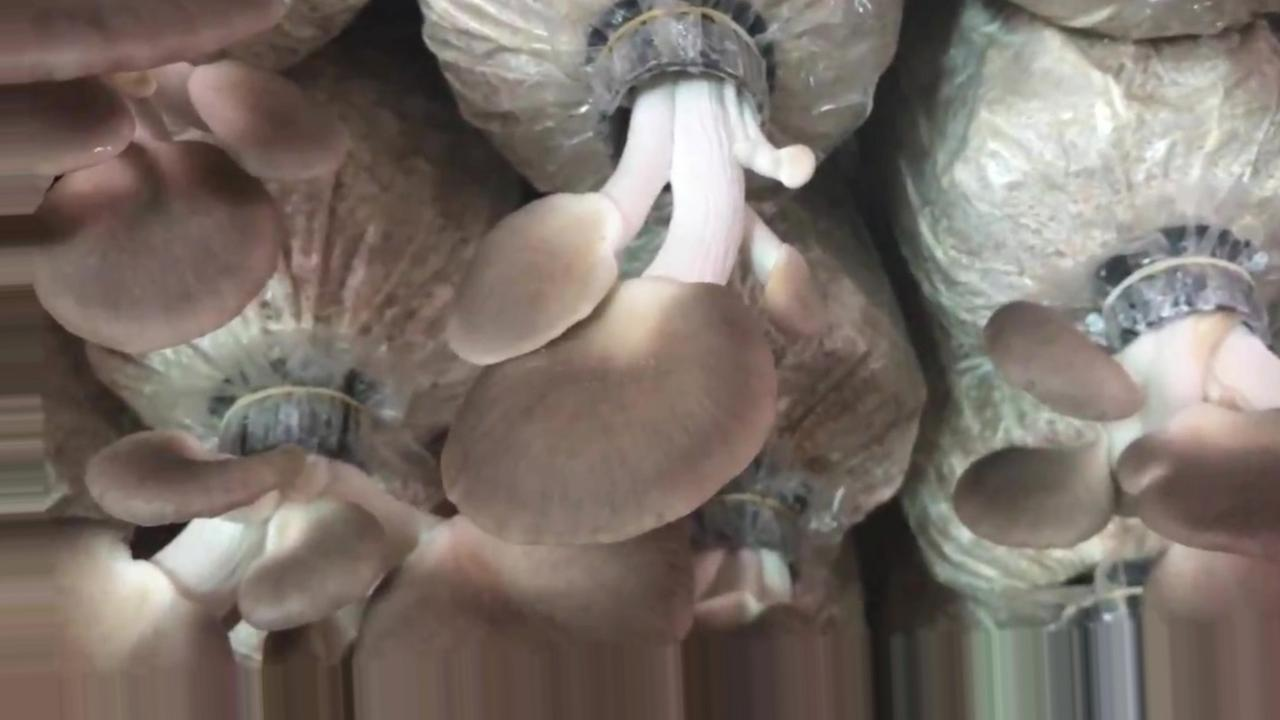nam: (1, 364, 688, 720), (437, 1, 839, 545), (1, 2, 353, 355), (948, 217, 1280, 555), (687, 450, 840, 720)
